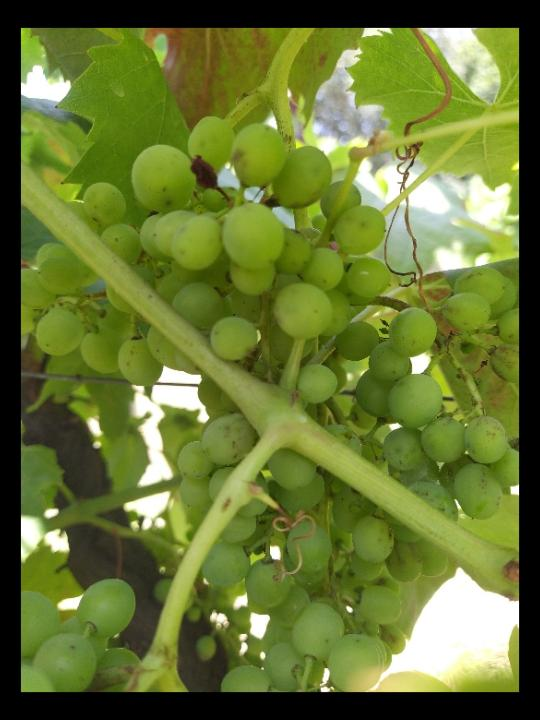grape: (39, 115, 509, 666)
